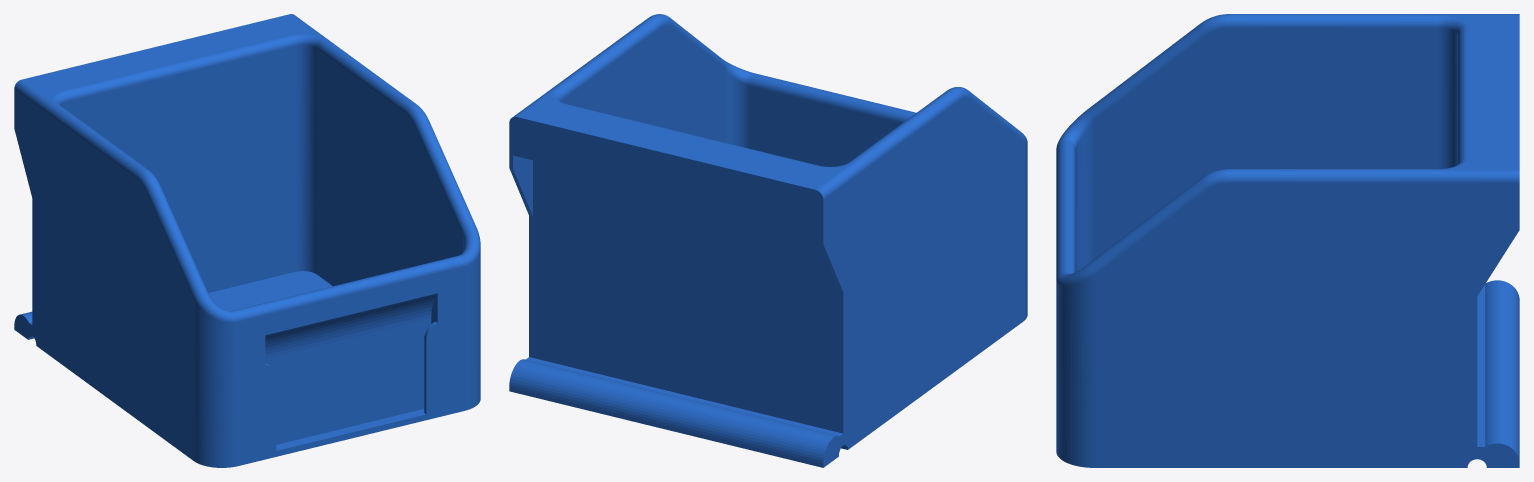
3 views of the same model, side by side, from view 1: azimuth 30°, elevation 25°; view 2: azimuth 150°, elevation 25°; view 3: azimuth 270°, elevation 25° (orthographic). The views are drawn at different scales.
Visible parts, largest first — view 1: _0Mm_Open_Bin; view 2: _0Mm_Open_Bin; view 3: _0Mm_Open_Bin.
Part boxes in pixels (x1,y1,x2,y2): _0Mm_Open_Bin: (14,14,480,467); _0Mm_Open_Bin: (509,14,1027,467); _0Mm_Open_Bin: (1056,14,1519,467).
Bounding box in the file's own units: 0.2 × 0.24 × 0.168.
